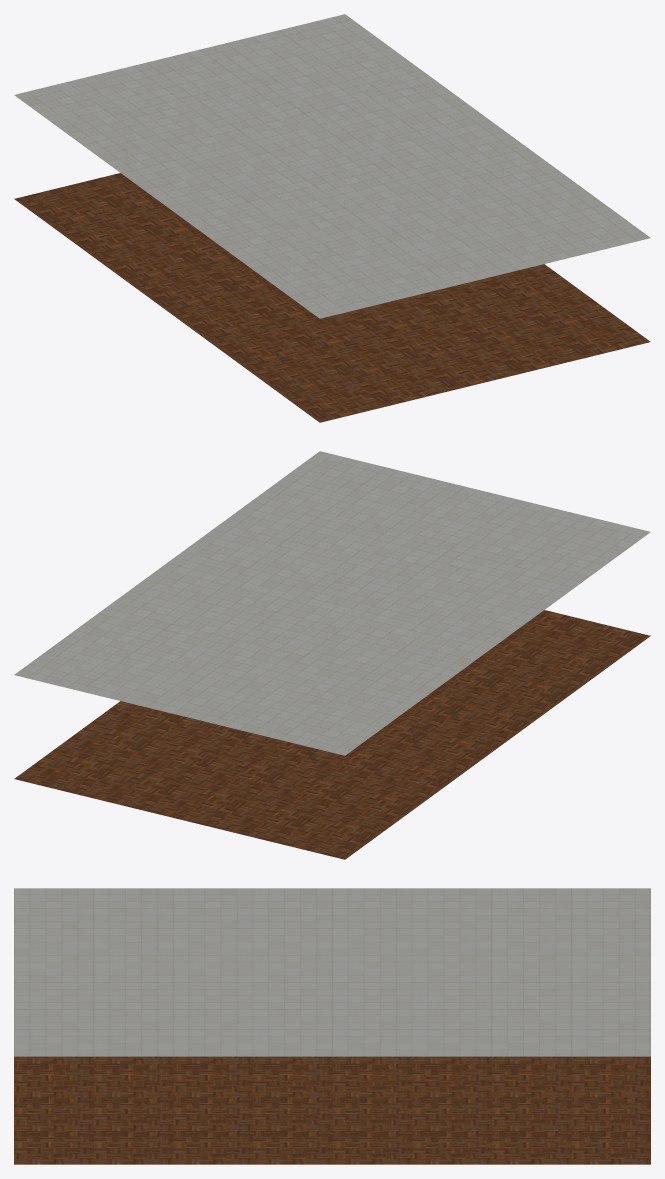
File: M_5X8Tile.fbx
The picture shows the model from 3 angles, top to bottom: view 1: azimuth 30°, elevation 25°; view 2: azimuth 150°, elevation 25°; view 3: azimuth 270°, elevation 25°; orthographic projection. The views are drawn at different scales.
Parts seen in each view (by area): view 1: Celling, Tiles; view 2: Celling, Tiles; view 3: Celling, Tiles.
Boxes of the visible parts, bbox=[...] form: Celling: bbox=[14, 14, 650, 318]; Tiles: bbox=[14, 173, 650, 422]; Celling: bbox=[14, 451, 650, 755]; Tiles: bbox=[14, 610, 650, 859]; Celling: bbox=[14, 888, 650, 1056]; Tiles: bbox=[14, 1056, 650, 1164].
Size of the model in its own units: 1000 by 300 by 1600.
